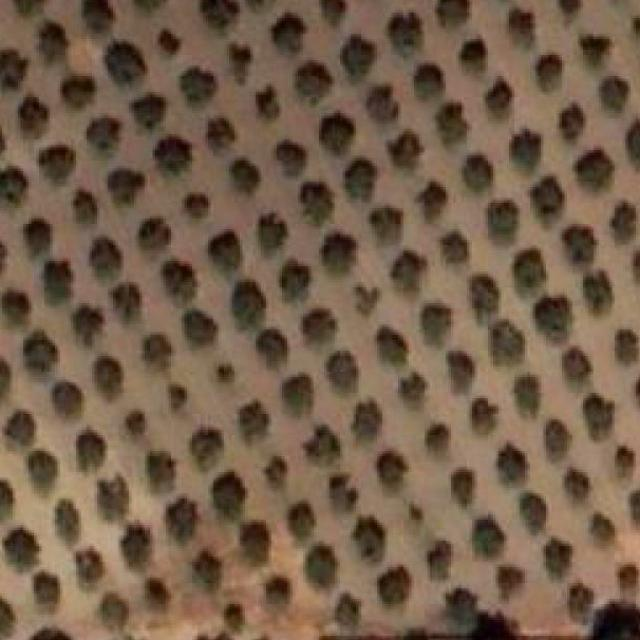Tree: (184, 551, 224, 604), (228, 517, 273, 564), (66, 544, 110, 590), (295, 549, 340, 593), (318, 470, 363, 513), (210, 470, 252, 516), (453, 153, 495, 198), (337, 155, 379, 200), (19, 335, 60, 379), (106, 36, 142, 85), (489, 200, 527, 246), (154, 134, 192, 180), (283, 496, 321, 542), (98, 166, 140, 207), (567, 153, 612, 191), (121, 525, 158, 570), (167, 496, 203, 542), (362, 81, 396, 129), (36, 261, 73, 305), (595, 604, 640, 640), (186, 424, 222, 469), (19, 216, 57, 258), (380, 560, 416, 604), (348, 398, 382, 444), (276, 375, 314, 416), (559, 224, 601, 261), (48, 504, 84, 547), (68, 306, 102, 351), (144, 454, 182, 494), (509, 127, 546, 168), (534, 298, 570, 340), (538, 534, 580, 570), (26, 576, 62, 618), (93, 480, 129, 522), (106, 280, 140, 324), (228, 282, 266, 321), (580, 396, 617, 436), (331, 588, 368, 628), (208, 232, 243, 274), (350, 518, 388, 556), (493, 443, 530, 482), (300, 306, 336, 346), (182, 66, 218, 106), (162, 261, 198, 301), (442, 351, 475, 394), (215, 594, 252, 632), (0, 171, 31, 216), (3, 525, 34, 570), (469, 612, 518, 640), (489, 324, 525, 362), (323, 232, 359, 270), (268, 16, 303, 55), (49, 382, 81, 424), (412, 301, 448, 338), (85, 240, 122, 276), (90, 118, 129, 152), (462, 272, 498, 308), (70, 432, 106, 468), (236, 402, 271, 439), (502, 10, 540, 44), (95, 594, 129, 632), (560, 348, 596, 383), (224, 158, 259, 194), (16, 98, 46, 140), (3, 414, 39, 449), (296, 60, 330, 97), (375, 451, 409, 488), (140, 213, 174, 250), (510, 377, 543, 415), (308, 430, 340, 469), (91, 356, 123, 395), (422, 538, 456, 574), (256, 216, 290, 252), (30, 20, 66, 54), (258, 454, 292, 490), (25, 451, 57, 489), (537, 180, 567, 220), (184, 314, 218, 349), (442, 590, 475, 626), (561, 470, 593, 507), (609, 444, 640, 482), (263, 570, 294, 608), (427, 108, 469, 136), (608, 202, 640, 238), (257, 324, 289, 360), (82, 0, 119, 31), (0, 287, 31, 324), (516, 256, 546, 294), (130, 92, 168, 122), (516, 495, 549, 529), (559, 102, 588, 140), (582, 274, 611, 312), (18, 622, 79, 640), (207, 118, 240, 151), (600, 79, 634, 111), (468, 520, 500, 554), (139, 337, 171, 371), (0, 47, 26, 88), (482, 84, 514, 117), (40, 148, 73, 180), (609, 330, 640, 364), (373, 206, 400, 245), (578, 39, 614, 68), (331, 350, 358, 388), (588, 514, 620, 546), (415, 179, 446, 212), (389, 256, 419, 290), (563, 583, 593, 617), (458, 38, 490, 69), (494, 567, 525, 599), (371, 330, 403, 361), (301, 182, 332, 214), (159, 379, 188, 413), (183, 187, 213, 219), (253, 84, 282, 117), (203, 0, 238, 27), (61, 76, 97, 102), (278, 139, 308, 170), (434, 0, 472, 24), (412, 69, 440, 101), (72, 192, 97, 227), (535, 58, 564, 87), (398, 375, 427, 404), (290, 261, 314, 296), (153, 32, 182, 60), (542, 425, 569, 455), (450, 470, 477, 500), (393, 16, 419, 47), (469, 402, 495, 433), (357, 287, 382, 319), (345, 39, 372, 68), (320, 124, 343, 158), (616, 567, 640, 599), (229, 46, 250, 82), (209, 364, 237, 391), (146, 576, 173, 604), (316, 0, 346, 24), (440, 232, 469, 255), (0, 590, 13, 640), (425, 427, 453, 450), (0, 353, 13, 401), (627, 488, 640, 530), (130, 407, 150, 433), (0, 478, 13, 518), (548, 0, 578, 16), (395, 137, 414, 162), (627, 16, 640, 47), (630, 120, 640, 160), (0, 123, 6, 173), (131, 0, 166, 8), (13, 0, 42, 7), (636, 374, 640, 418), (636, 252, 640, 290)
